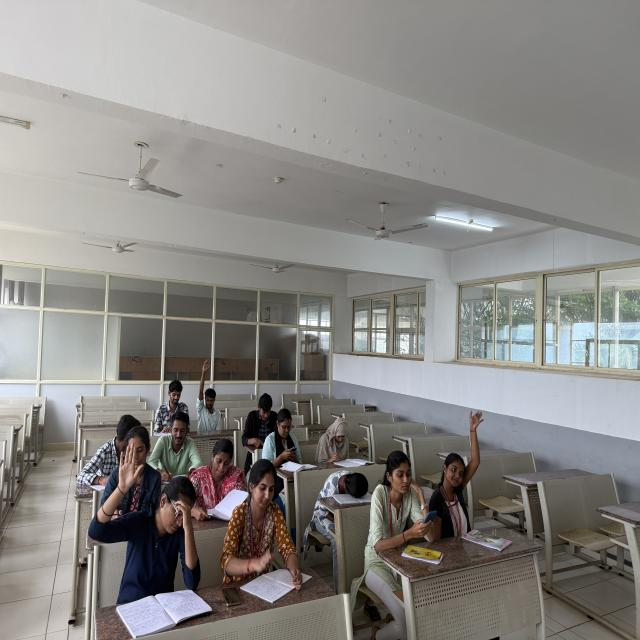Hand Rising: (92, 443, 206, 588), (438, 408, 489, 540), (192, 349, 230, 430)
Reading: (233, 457, 309, 598)
Sleeping: (314, 466, 372, 519)
Using Phone: (374, 445, 438, 548), (266, 407, 308, 466)
Writing: (152, 406, 201, 478), (315, 412, 371, 467)
